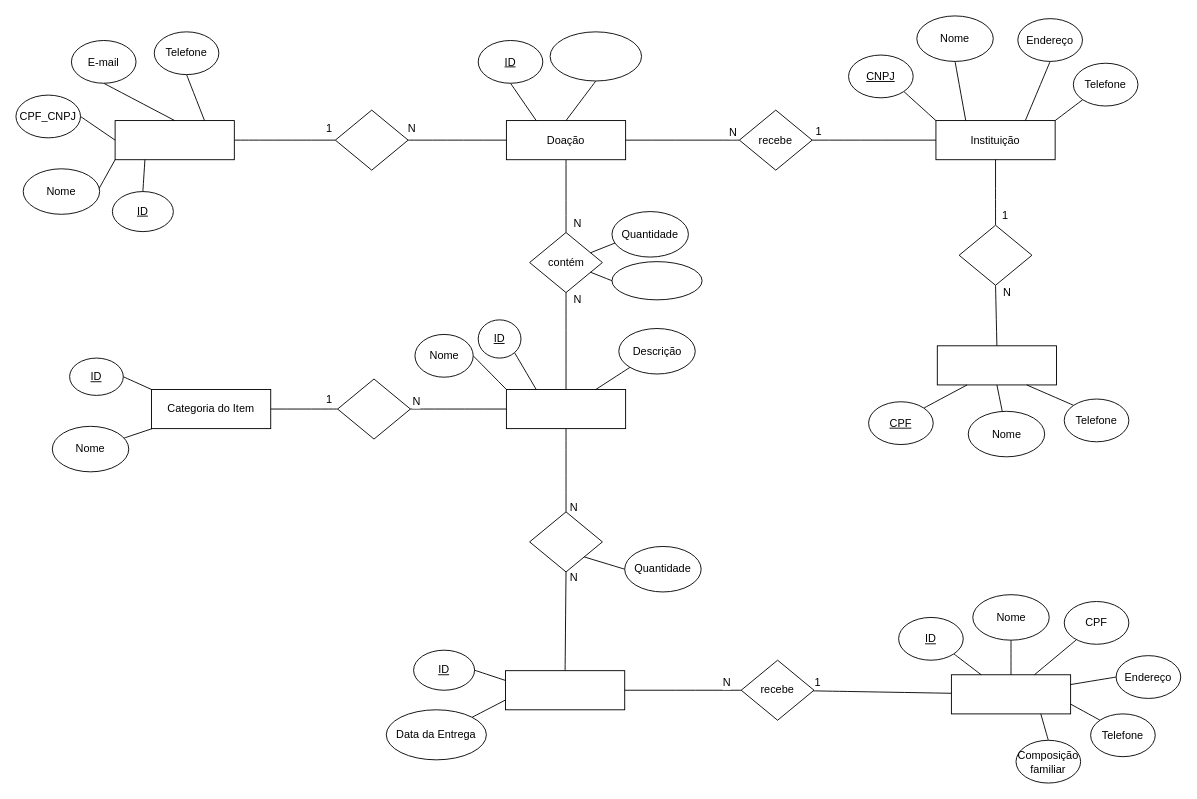
Image size: 1197x799. Some labels were removed from this diagram. The centre of each missing label's shape, as x and y in pixels:
"Data da Doação" goes at point (595, 56).
"Data de validade" goes at point (656, 280).
"Doador" goes at point (174, 140).
"entrega" goes at point (565, 541).
"Item Doado" goes at point (566, 409).
"possui" goes at point (373, 408).
"realiza" goes at point (371, 139).
"Receptor" goes at point (1010, 694).
"trabalha" goes at point (995, 254).
"Transação de Doação" goes at point (565, 690).
"Voluntário" goes at point (996, 365).
